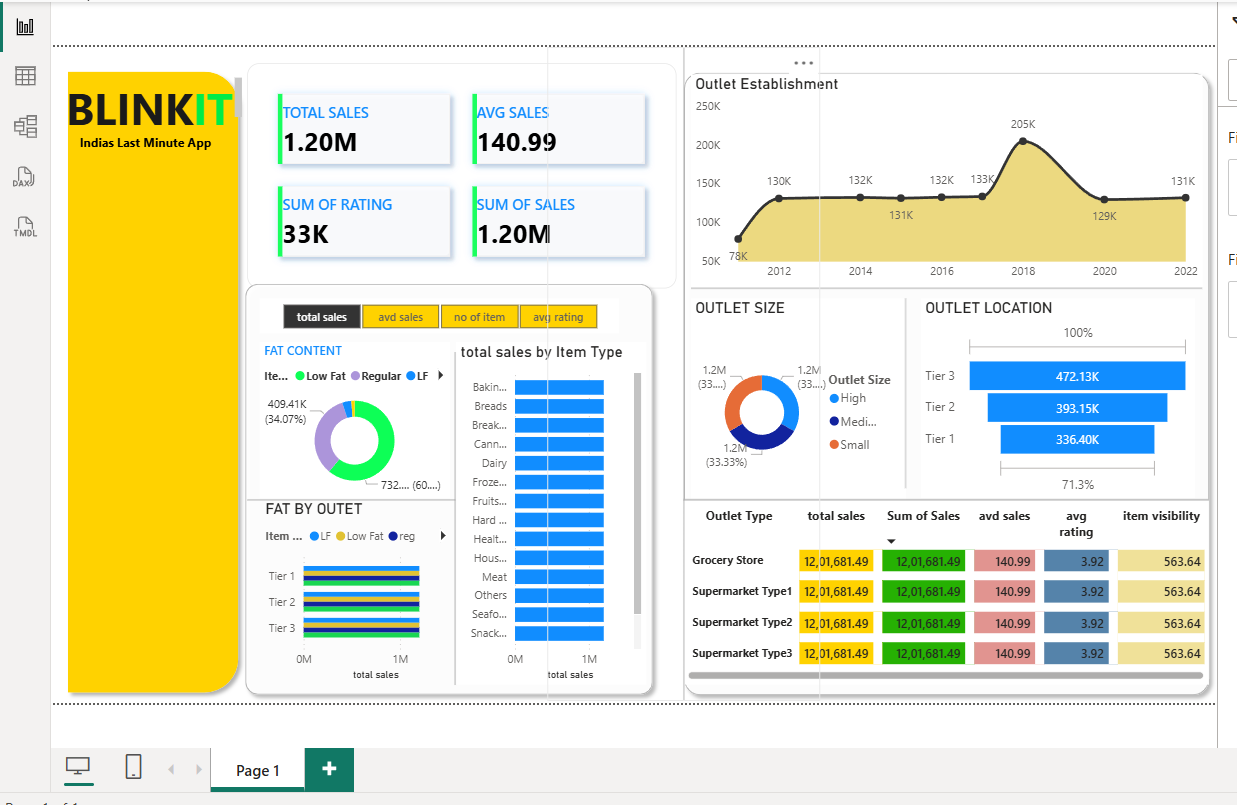

The dashboard page shown, as its layout file describes it:
{"tool":"powerbi","page":{"name":"Page 1","canvas":[1280,720],"ordinal":0},"visuals":[{"type":"shape","box":[10,17.5,205,700],"z":0},{"type":"textbox","box":[10,28.8,205,62.5],"z":1000},{"type":"textbox","box":[21.2,91.2,166.2,36.2],"z":2000},{"type":"cardVisual","fields":{"Data":["BlinkIT Grocery Data.total sales","BlinkIT Grocery Data.avd sales","Sum(BlinkIT Grocery Data.Rating)","Sum(BlinkIT Grocery Data.Sales)"]},"box":[215,17.5,471.2,247.5],"z":3000},{"type":"shape","box":[205,251.2,465,468.8],"z":4000},{"type":"donutChart","title":"FAT CONTENT","fields":{"Y":["BlinkIT Grocery Data.total sales"],"Category":["BlinkIT Grocery Data.Item Fat Content"]},"box":[228.6,324.3,208.6,171.4],"z":5000},{"type":"slicer","fields":{"Values":["Metrics.Metrics"]},"box":[228.6,275.7,394.3,38.6],"z":6000},{"type":"clusteredBarChart","title":"FAT BY OUTET","fields":{"Y":["BlinkIT Grocery Data.total sales"],"Category":["Table1.Outlet Location Type"],"Series":["Table1.Item Fat Content"]},"box":[230.5,496.7,219.6,203.1],"z":7000},{"type":"barChart","fields":{"Y":["BlinkIT Grocery Data.total sales"],"Category":["Table1.Item Type"]},"box":[444.6,323.8,208.6,376],"z":8000},{"type":"shape","box":[686.1,19.2,594.2,701.2],"z":9000},{"type":"lineChart","title":"Outlet Establishment ","fields":{"Category":["Table1.Outlet Establishment Year"],"Y":["Sum(Table1.Sales)"]},"box":[702.6,30.2,561.2,234.6],"z":10000},{"type":"donutChart","title":"OUTLET SIZE","fields":{"Category":["Table1.Outlet Size"],"Y":["BlinkIT Grocery Data.total sales"]},"box":[702.6,275.8,236,230.5],"z":11000},{"type":"shape","box":[702.6,237.4,561.2,54.9],"z":12000},{"type":"funnel","title":"OUTLET LOCATION","fields":{"Category":["Table1.Outlet Location Type"],"Y":["Sum(Table1.Sales)"]},"box":[955.1,275.8,300.5,219.6],"z":14000},{"type":"shape","box":[694.3,450.1,577.7,93.3],"z":15000},{"type":"pivotTable","fields":{"Rows":["Table1.Outlet Type"],"Values":["BlinkIT Grocery Data.total sales","Sum(BlinkIT Grocery Data.Sales)","BlinkIT Grocery Data.avd sales","BlinkIT Grocery Data.avg rating","Sum(BlinkIT Grocery Data.Item Visibility)"]},"box":[694.3,497.1,577.1,202.9],"z":16000},{"type":"shape","box":[215.7,347.1,228.6,300],"z":17000},{"type":"shape","box":[294.3,334.3,300,365.7],"z":18000},{"type":"shape","box":[694.3,347.1,577.1,300],"z":19000},{"type":"shape","box":[544.3,0,300,717.1],"z":20000}]}

Visuals, with their boxes on the page's 1280x720 design canvas (x1, y1, x2, y2). These are canvas units, not pixel positions in the 1237x805 screenshot, which may show the page scaled, cropped or inside an application window:
shape: 10 18 215 718
textbox: 10 29 215 91
textbox: 21 91 187 127
cardVisual - BlinkIT Grocery Data.total sales x BlinkIT Grocery Data.avd sales: 215 18 686 265
shape: 205 251 670 720
"FAT CONTENT" donutChart: 229 324 437 496
slicer - Metrics.Metrics: 229 276 623 314
"FAT BY OUTET" clusteredBarChart: 230 497 450 700
barChart - BlinkIT Grocery Data.total sales x Table1.Item Type: 445 324 653 700
shape: 686 19 1280 720
"Outlet Establishment " lineChart: 703 30 1264 265
"OUTLET SIZE" donutChart: 703 276 939 506
shape: 703 237 1264 292
"OUTLET LOCATION" funnel: 955 276 1256 495
shape: 694 450 1272 543
pivotTable - Table1.Outlet Type x BlinkIT Grocery Data.total sales: 694 497 1271 700
shape: 216 347 444 647
shape: 294 334 594 700
shape: 694 347 1271 647
shape: 544 0 844 717
